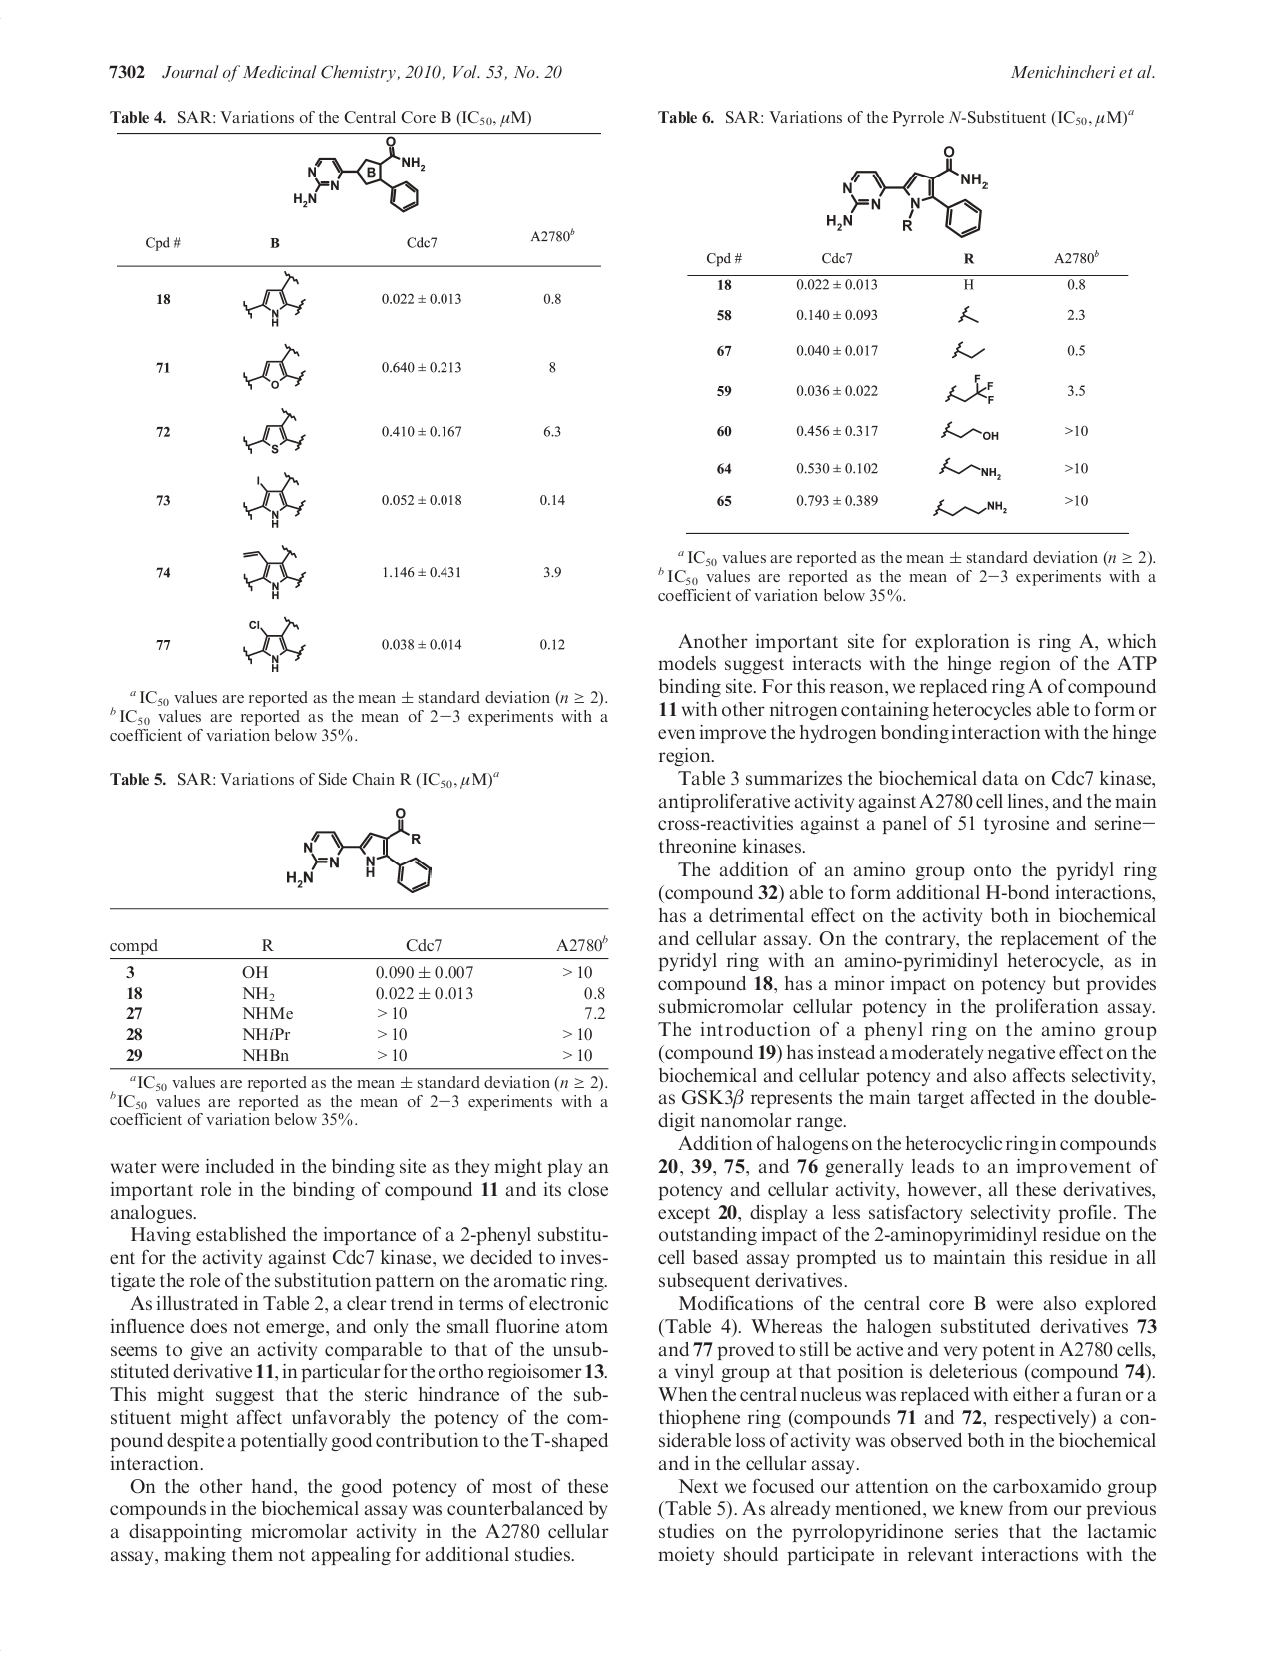exist_molecular: (824, 144, 989, 239), (285, 806, 435, 895), (291, 136, 427, 213), (241, 614, 309, 676), (241, 471, 309, 531), (242, 269, 309, 328), (241, 543, 309, 601), (241, 406, 309, 455), (242, 340, 309, 390), (930, 495, 1007, 521), (942, 372, 999, 406), (935, 455, 1005, 480), (940, 419, 1000, 443), (949, 339, 987, 362), (955, 303, 981, 324)
